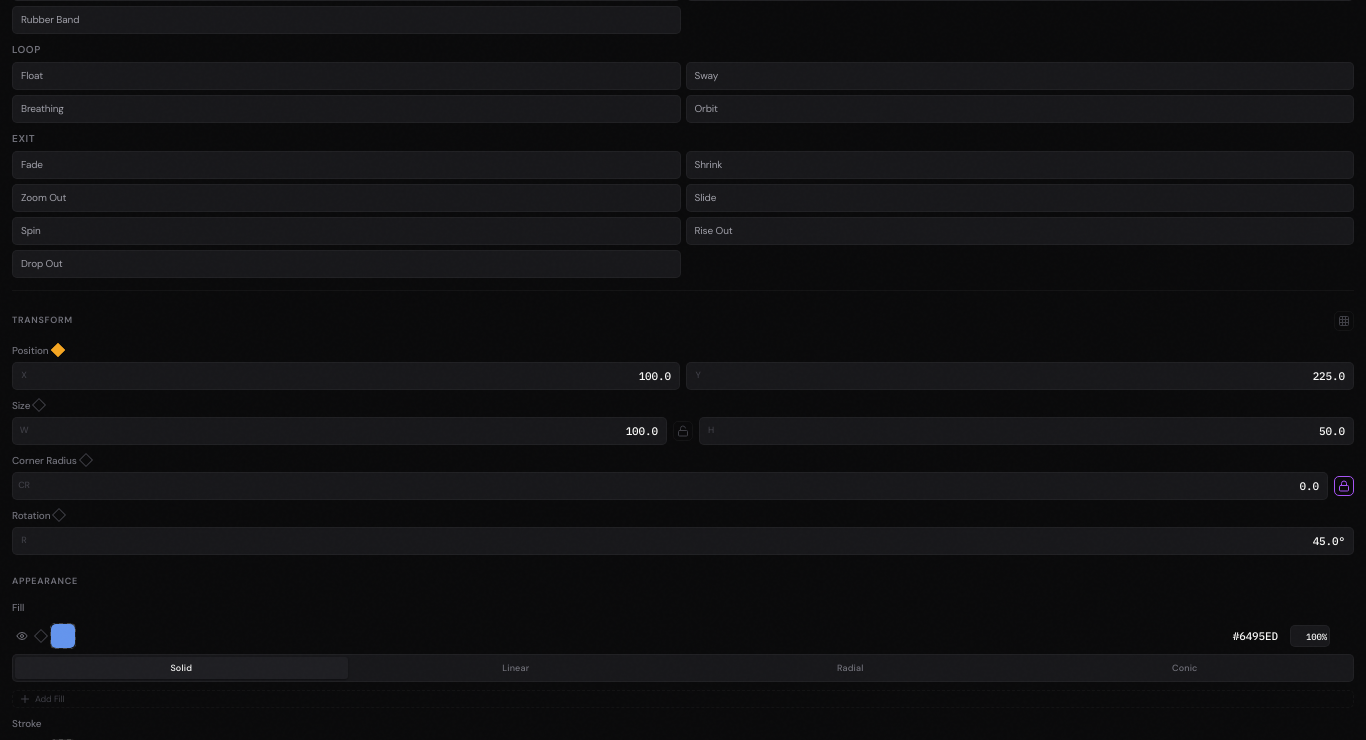
Test: PropertiesPanel › types into the integer part of a numeric field, keeping the decimals
The image size is (1366, 740).
(page scrolled)
Click the field labelled "Position" at coordinates (355, 376), box x1=31 y1=362 x2=679 y2=388
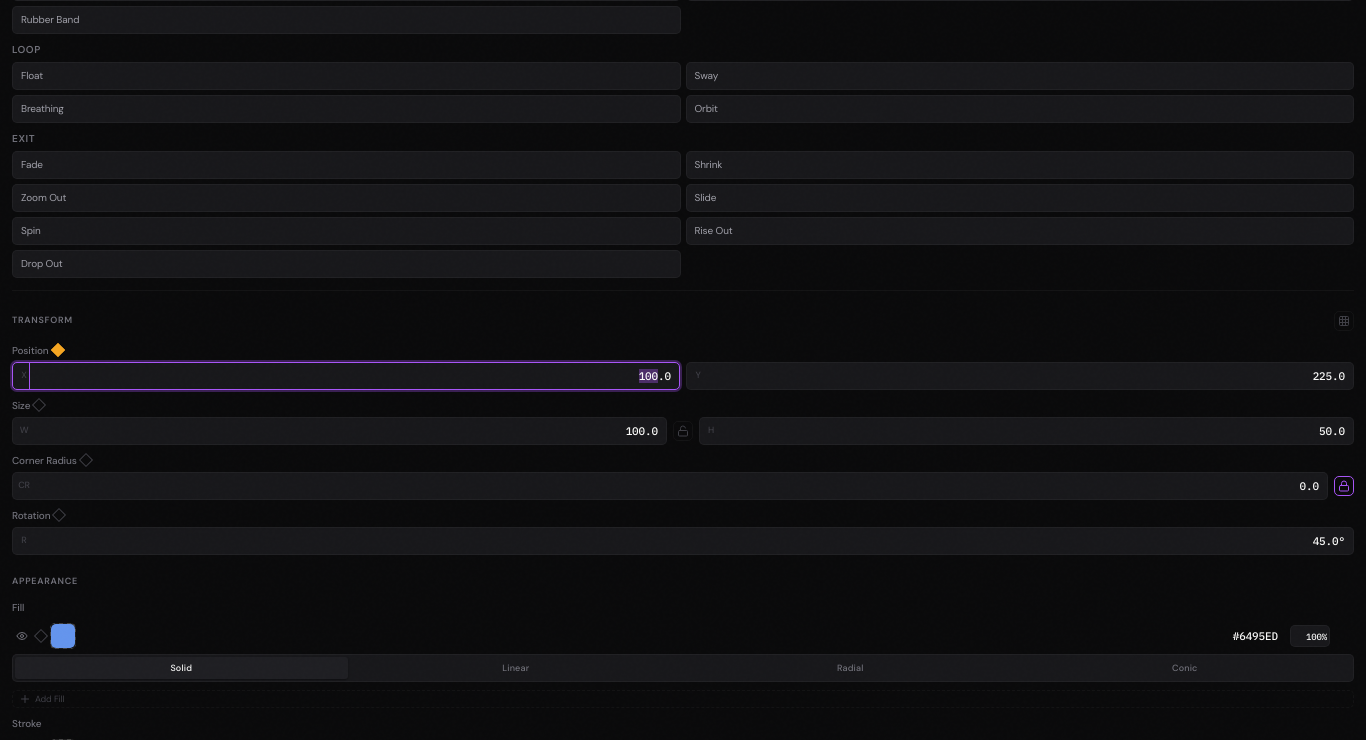
Type keys "250"
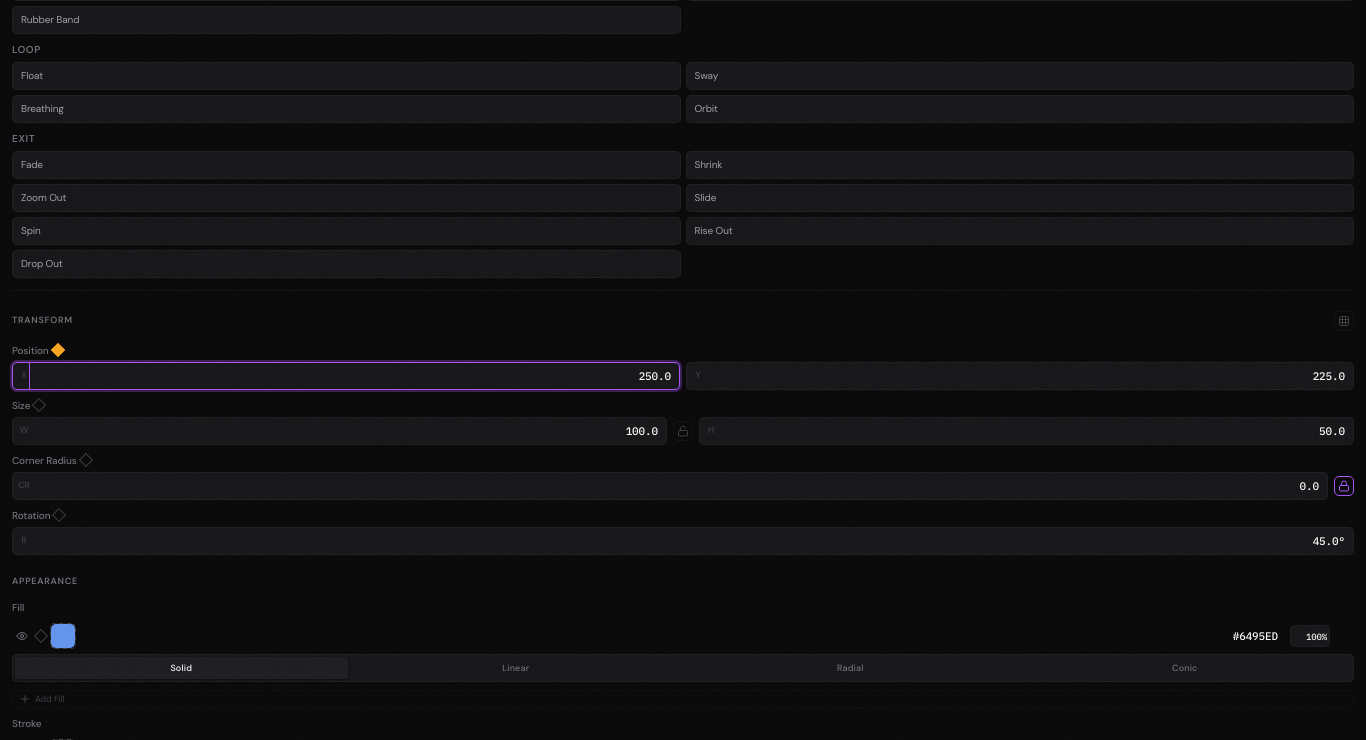
Result: the field labelled "Position" holds "250.0" at x1=31 y1=362 x2=679 y2=388
# → moves on to the decimals
Type keys "{ArrowRight}5"
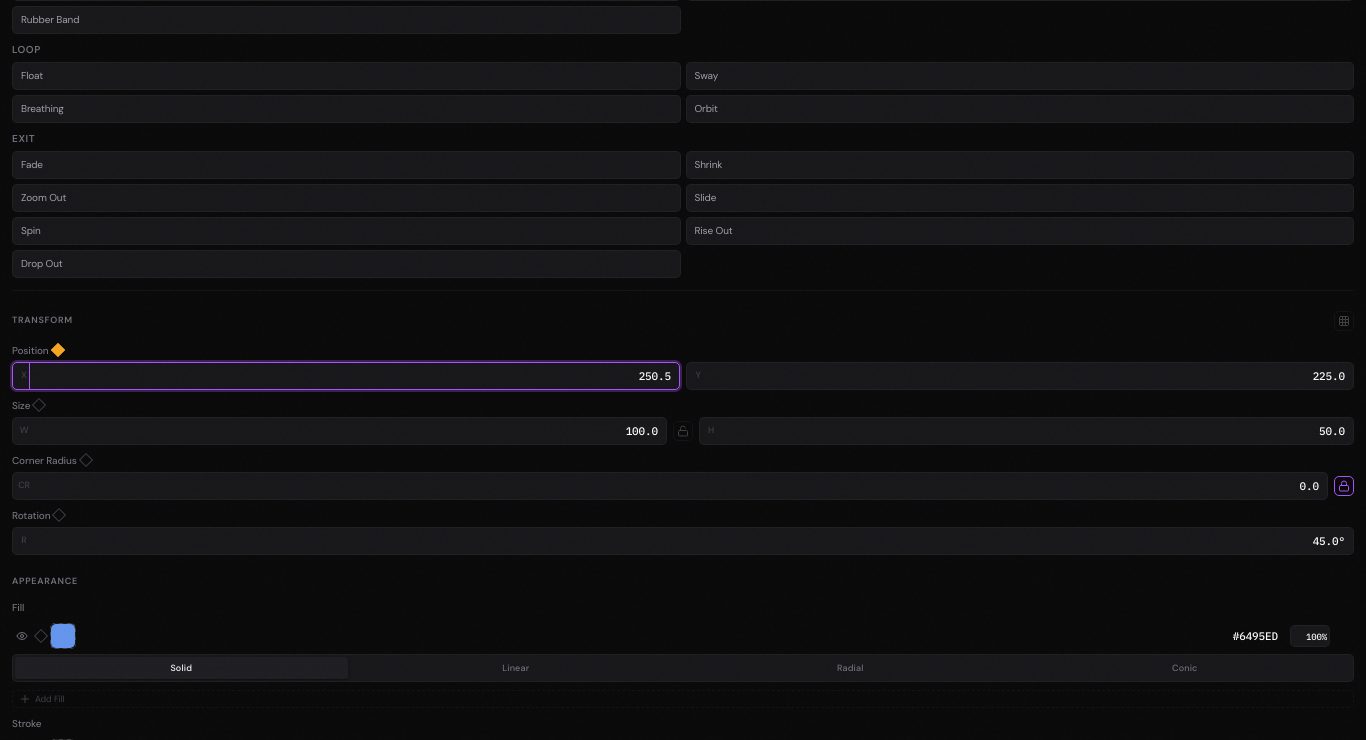
Result: the field labelled "Position" holds "250.5" at x1=31 y1=362 x2=679 y2=388
